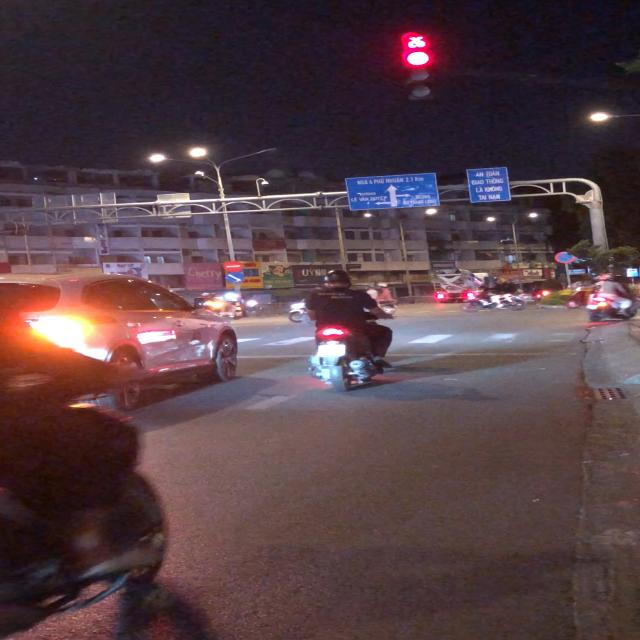Bien bao cam di nguoc chieu: (223, 260, 246, 272)
Bien bao huong phai di vong chuong ngai vat: (225, 272, 246, 284)
